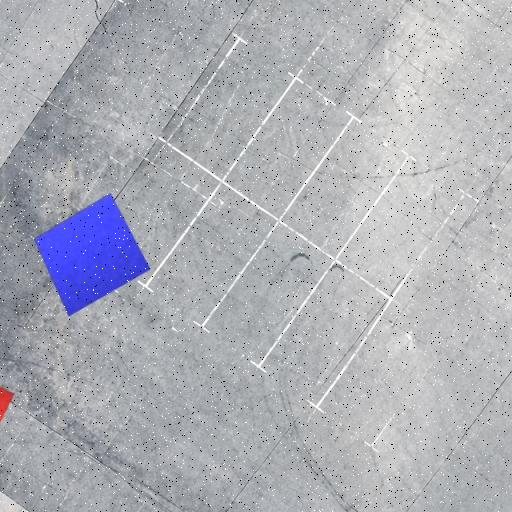BLUE_SQUARE: (34, 193, 151, 317)
